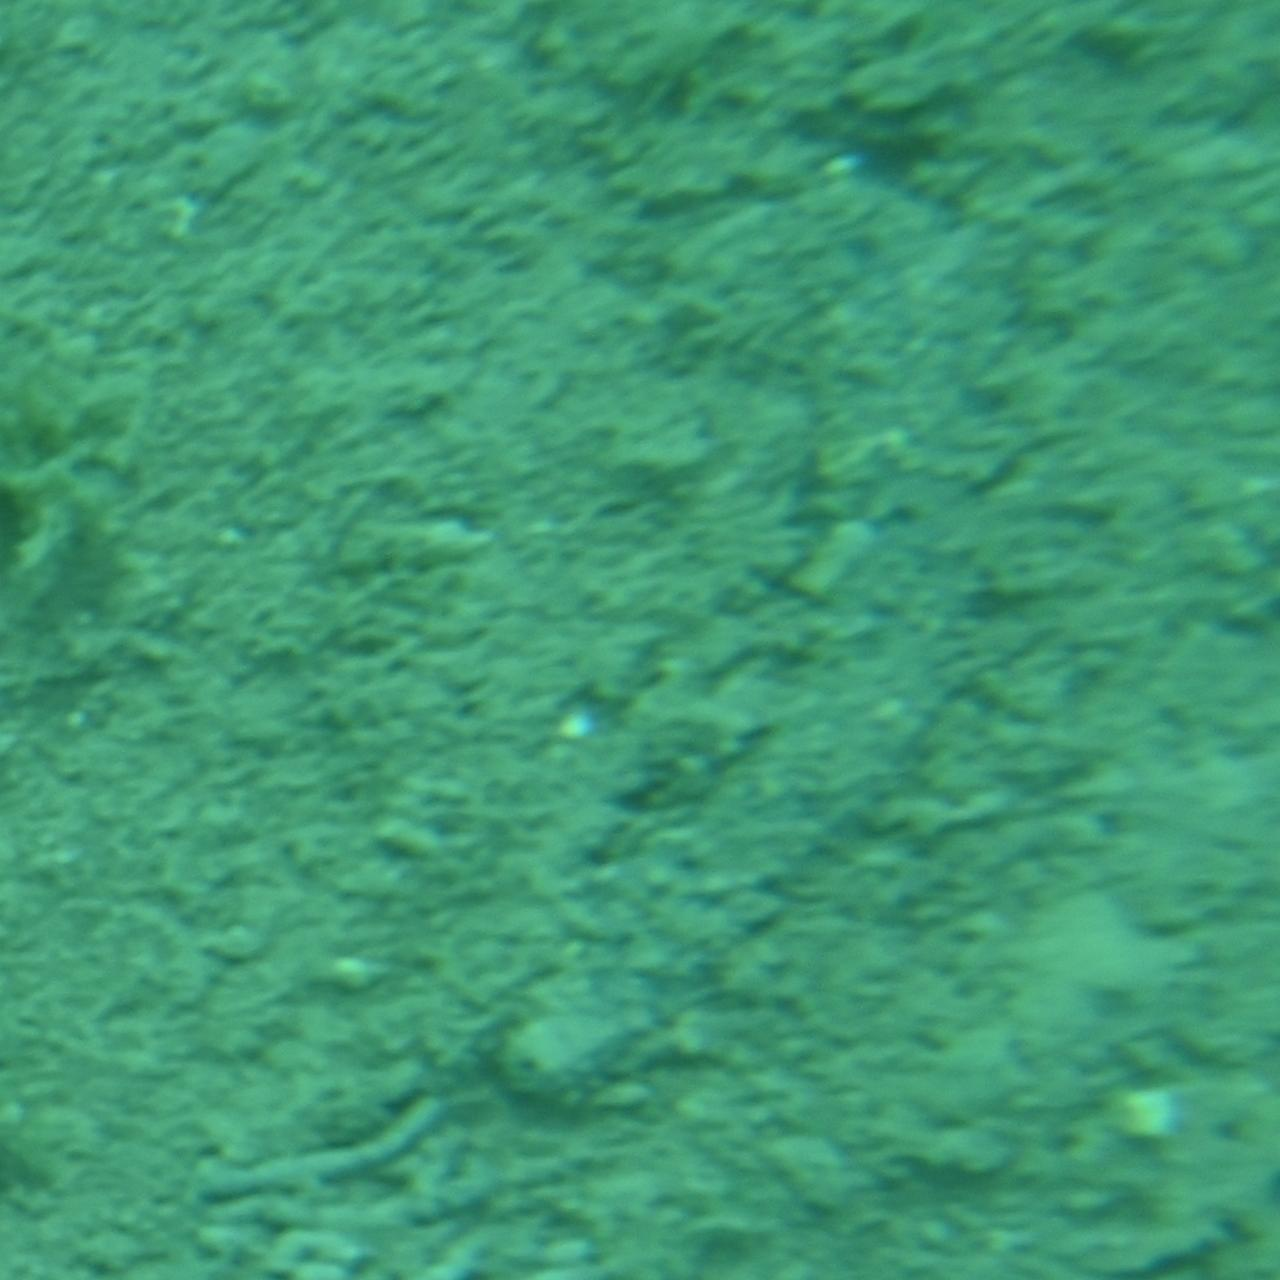Holothuria tubulosa: (519, 148, 1057, 1132)
